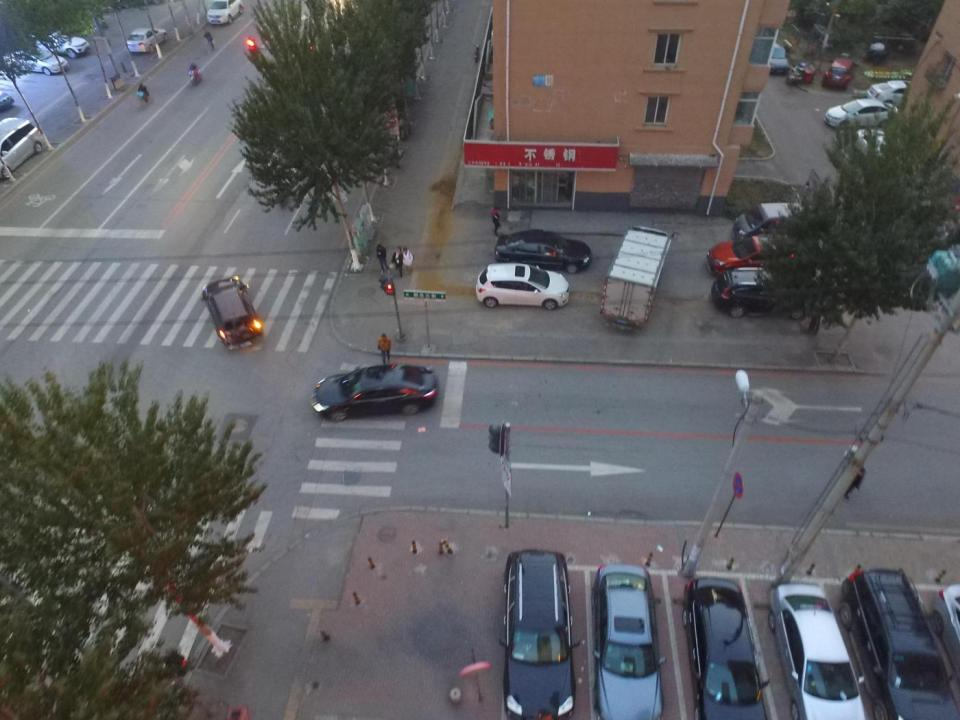car: (840, 569, 956, 718), (504, 547, 577, 719), (772, 583, 865, 718), (680, 576, 765, 718), (594, 563, 664, 718), (312, 364, 437, 421), (712, 266, 821, 323), (710, 234, 833, 278), (199, 276, 265, 354), (478, 261, 572, 310), (493, 230, 588, 275), (0, 116, 46, 181), (824, 95, 897, 131), (26, 26, 93, 59), (872, 77, 916, 117), (6, 51, 70, 74), (758, 36, 790, 74), (123, 27, 168, 53), (823, 58, 856, 93), (206, 0, 246, 25)
truck: (601, 224, 682, 333)
van: (733, 200, 837, 237)
